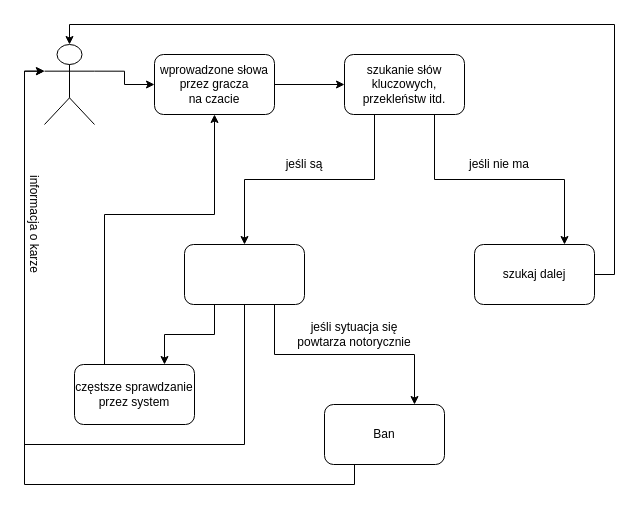
Some shapes in this 640 by 510 pixel diagram are drawn without their labels. The shapes that lost their labels are listed below. From the top down, each one's centre as x and y in pixels, then its label:
(x=69, y=84): Gracz
(x=244, y=274): kara czasowa zwiększona razy 2 za każde przewinienie
